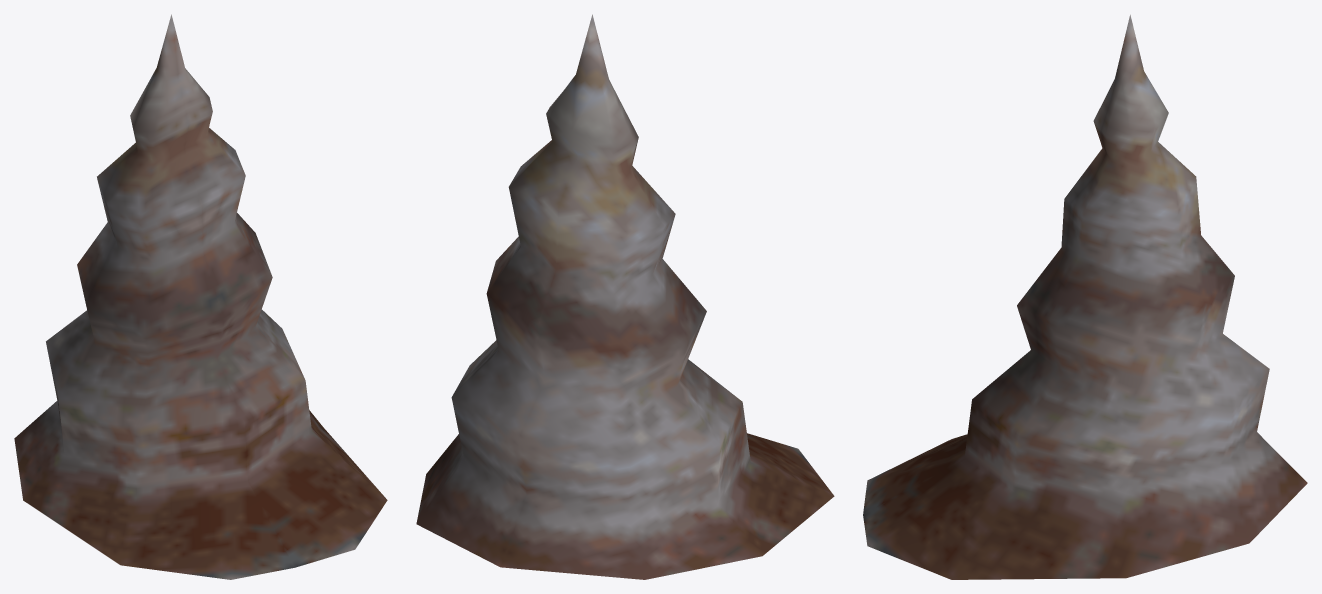
Rendered from 5010_Item_hailuo_05.FBX.
3 renders of one model, left to right at view 1: azimuth 30°, elevation 25°; view 2: azimuth 150°, elevation 25°; view 3: azimuth 270°, elevation 25°, orthographic. The views are drawn at different scales.
Parts seen in each view (by area): view 1: 5010_Item_hailuo_05; view 2: 5010_Item_hailuo_05; view 3: 5010_Item_hailuo_05.
Boxes of the visible parts, x1,y1,x2,y2 form: 5010_Item_hailuo_05: (14,14,387,579); 5010_Item_hailuo_05: (416,14,834,579); 5010_Item_hailuo_05: (863,14,1307,579).
Size of the model in its own units: 106 by 157 by 126.
